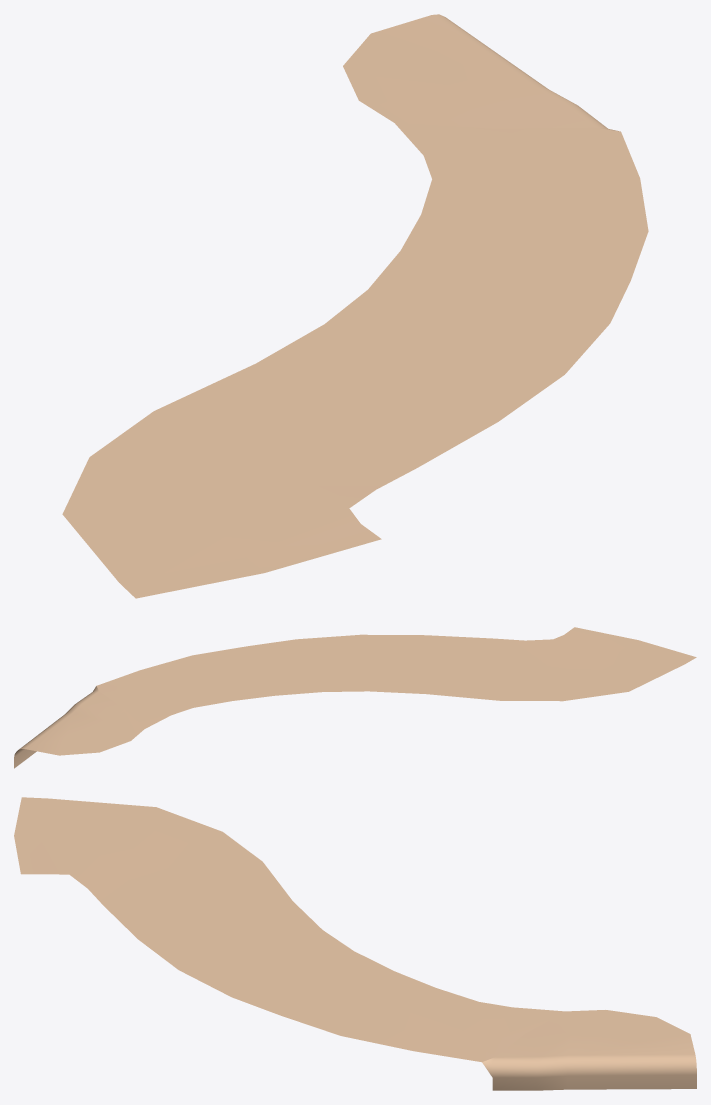
The model's file is river_segments_002.fbx.
The picture shows the model from 3 angles, top to bottom: view 1: azimuth 30°, elevation 25°; view 2: azimuth 150°, elevation 25°; view 3: azimuth 270°, elevation 25°; orthographic projection. The views are drawn at different scales.
Visible parts, largest first — view 1: polySurface27, polySurface25, polySurface31, polySurface23, polySurface19, polySurface29, polySurface21, polySurface18; view 2: polySurface27, polySurface25, polySurface31, polySurface23, polySurface19, polySurface21, polySurface29, polySurface18; view 3: polySurface27, polySurface31, polySurface25, polySurface23, polySurface19, polySurface29, polySurface21, polySurface18.
Part boxes in pixels (x1=…): polySurface27: x1=325, y1=178, x2=648, y2=374; polySurface25: x1=154, y1=324, x2=564, y2=467; polySurface31: x1=343, y1=14, x2=618, y2=131; polySurface23: x1=90, y1=411, x2=416, y2=489; polySurface19: x1=62, y1=508, x2=360, y2=582; polySurface29: x1=395, y1=123, x2=639, y2=182; polySurface21: x1=62, y1=457, x2=375, y2=518; polySurface18: x1=119, y1=524, x2=381, y2=598; polySurface27: x1=140, y1=635, x2=371, y2=707; polySurface25: x1=360, y1=634, x2=500, y2=700; polySurface31: x1=14, y1=686, x2=144, y2=768; polySurface23: x1=493, y1=638, x2=563, y2=701; polySurface19: x1=553, y1=635, x2=684, y2=691; polySurface21: x1=526, y1=639, x2=628, y2=700; polySurface29: x1=96, y1=670, x2=192, y2=728; polySurface18: x1=564, y1=627, x2=696, y2=664; polySurface27: x1=179, y1=930, x2=478, y2=1050; polySurface31: x1=482, y1=1010, x2=696, y2=1090; polySurface25: x1=103, y1=861, x2=322, y2=969; polySurface23: x1=88, y1=832, x2=262, y2=905; polySurface19: x1=41, y1=798, x2=155, y2=874; polySurface29: x1=413, y1=1002, x2=564, y2=1062; polySurface21: x1=69, y1=807, x2=222, y2=888; polySurface18: x1=14, y1=797, x2=47, y2=874.
Bounding box in the file's own units: 4255 × 222 × 4610.
